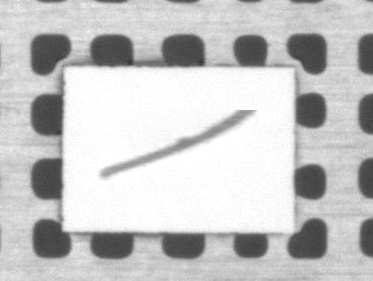DIE_INK: (99, 108, 255, 179)
